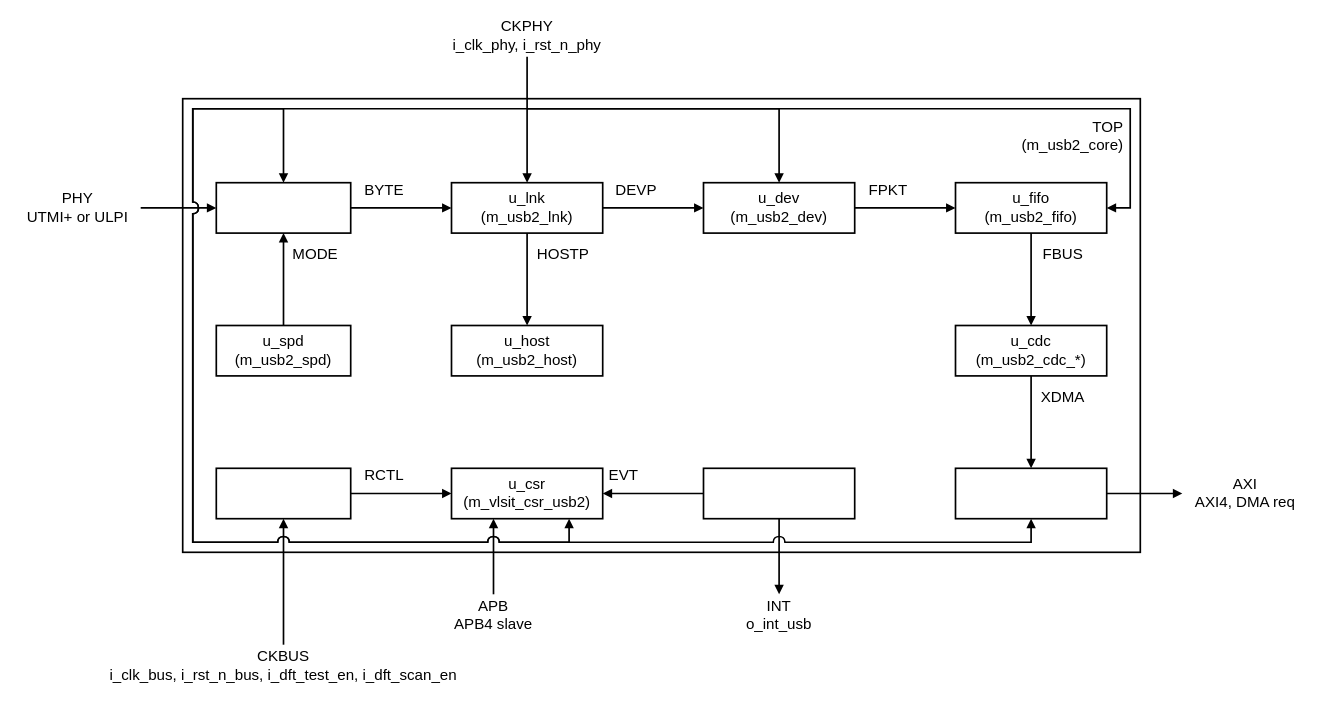
Image size: 1322x701. Some labels were removed from this diagram. The shapes that lost their labels are listed below. From the top down, each one's centre as x and y in pixels, then its label:
At [283,207]: "u_phyif (m_usb2_phyif_*)".
At [283,493]: "u_rst (m_usb2_rst)".
At [778,493]: "u_irq (m_usb2_irq)".
At [1030,493]: "u_dma (m_usb2_dma)".
